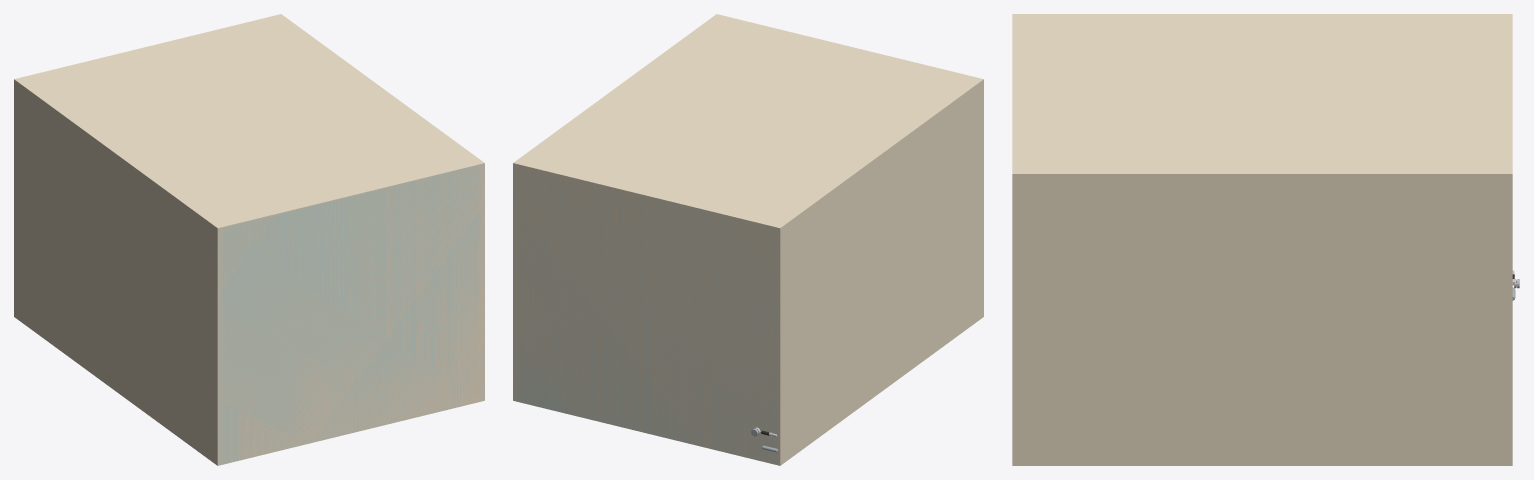
The model's file is corpjosbuc.glb.
3 renders of one model, left to right at view 1: azimuth 30°, elevation 25°; view 2: azimuth 150°, elevation 25°; view 3: azimuth 270°, elevation 25°, orthographic. The views are drawn at different scales.
Visible parts, largest first — view 1: Panel 3 (×2), Panel 4 (×3), testimp_corpjosbuc, Panel 5, Panel 2 (×2), Panel 1; view 2: Panel 1 (×2), Panel 4 (×3), Panel 5, testimp_corpjosbuc, Panel 2 (×2), Panel 3; view 3: Panel 2 (×2), Panel 5, Panel 4, Panel 3, Panel 1.
Part boxes in pixels (x1,y1,x2,y2): Panel 3 (×2): (222,162,476,463); Panel 4 (×3): (14,77,225,465); testimp_corpjosbuc: (218,164,484,464); Panel 5: (16,14,483,227); Panel 2 (×2): (274,14,484,402); Panel 1: (22,16,277,80); Panel 1 (×2): (521,161,776,463); Panel 4 (×3): (772,77,983,465); Panel 5: (514,15,982,226); testimp_corpjosbuc: (513,166,779,465); Panel 2 (×2): (513,14,723,402); Panel 3: (720,16,975,80); Panel 2 (×2): (1012,169,1512,465); Panel 5: (1012,14,1512,173); Panel 4: (1012,14,1512,18); Panel 3: (1012,19,1023,169); Panel 1: (1501,18,1512,169).
Bounding box in the file's own units: 0.6 × 0.51 × 0.803.
